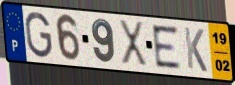6: (55, 12, 82, 64)
9: (89, 17, 117, 66)
E: (150, 24, 184, 70)
G: (23, 10, 54, 60)
K: (183, 25, 209, 74)
X: (117, 18, 149, 70)
